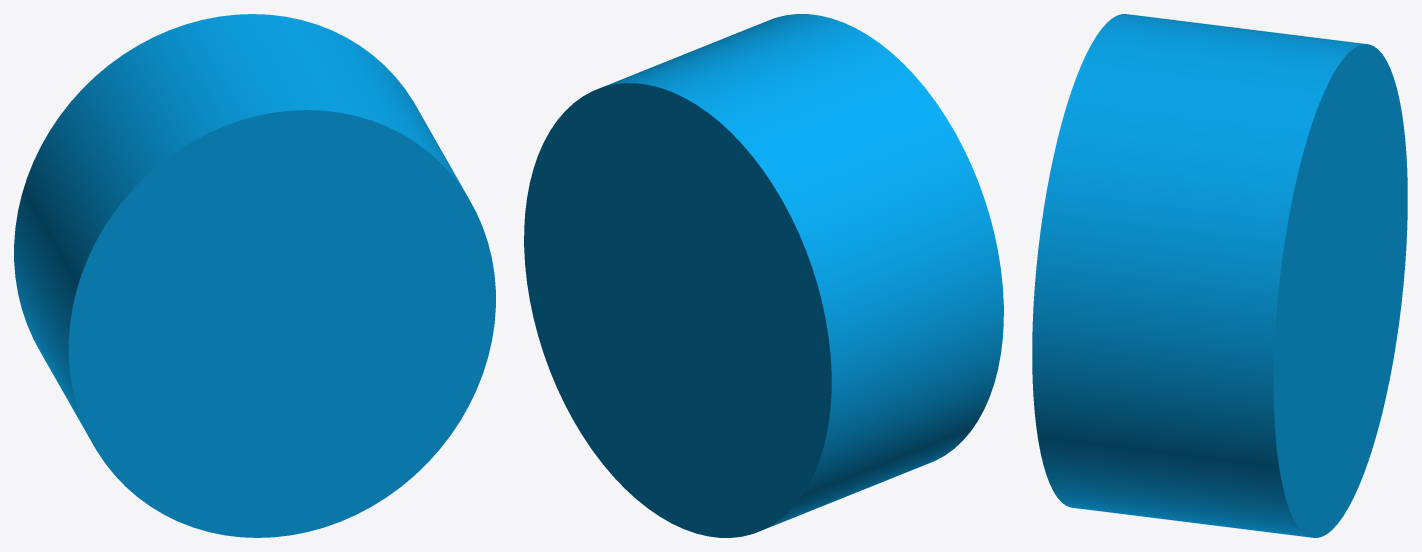
3 renders of one model, left to right at view 1: azimuth 30°, elevation 25°; view 2: azimuth 150°, elevation 25°; view 3: azimuth 270°, elevation 25°, orthographic. The views are drawn at different scales.
Visible parts, largest first — view 1: mesh_id168; view 2: mesh_id168; view 3: mesh_id168.
Boxes of the visible parts, box(x1,y1,x2,y2) form: mesh_id168: box(14, 14, 495, 537); mesh_id168: box(524, 14, 1003, 537); mesh_id168: box(1032, 14, 1407, 537).
Bounding box in the file's own units: 0.1829 × 0.176 × 0.1308.
Materials: 1 (1 with a texture image).
